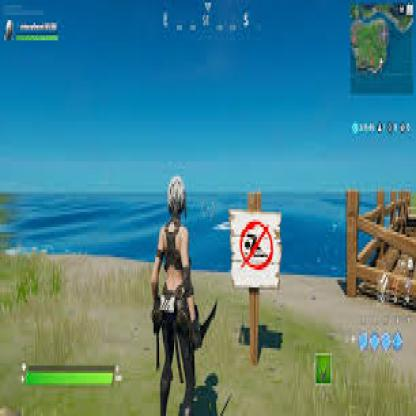person: (161, 190, 197, 394)
